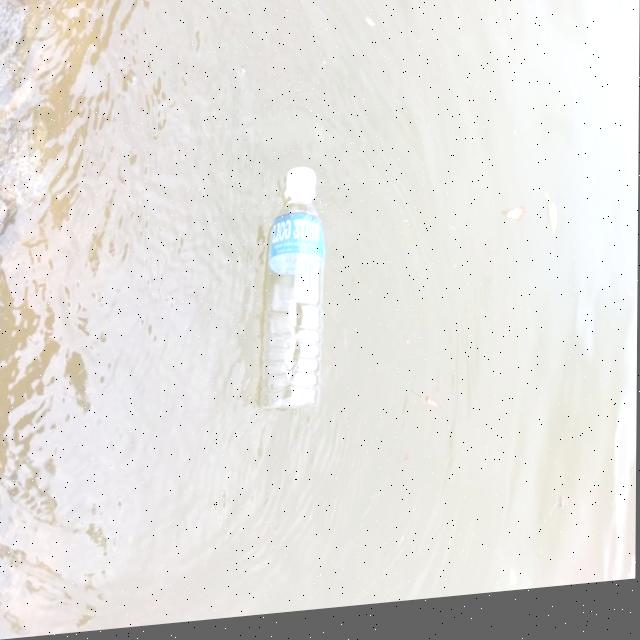waterbottle: (240, 160, 337, 426)
